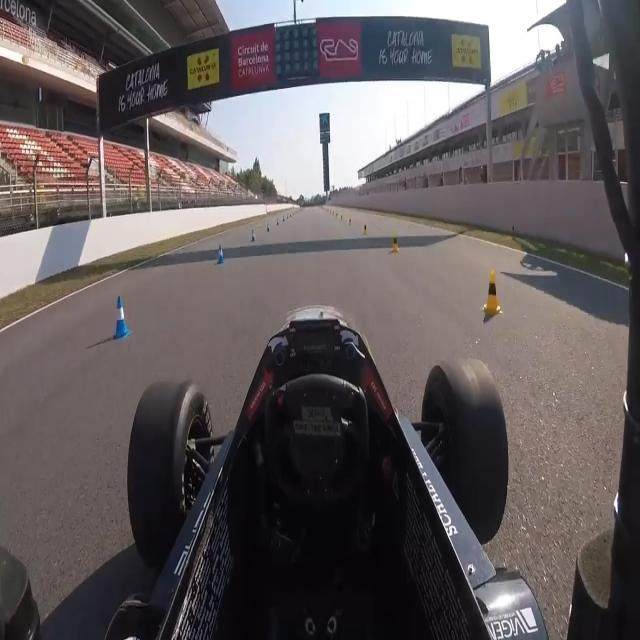blue_cone: (108, 290, 130, 342), (211, 242, 227, 266), (246, 225, 257, 246)
yellow_cone: (478, 265, 512, 323), (390, 229, 401, 258), (360, 217, 368, 240)
